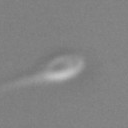normal: (1, 69, 42, 98)
